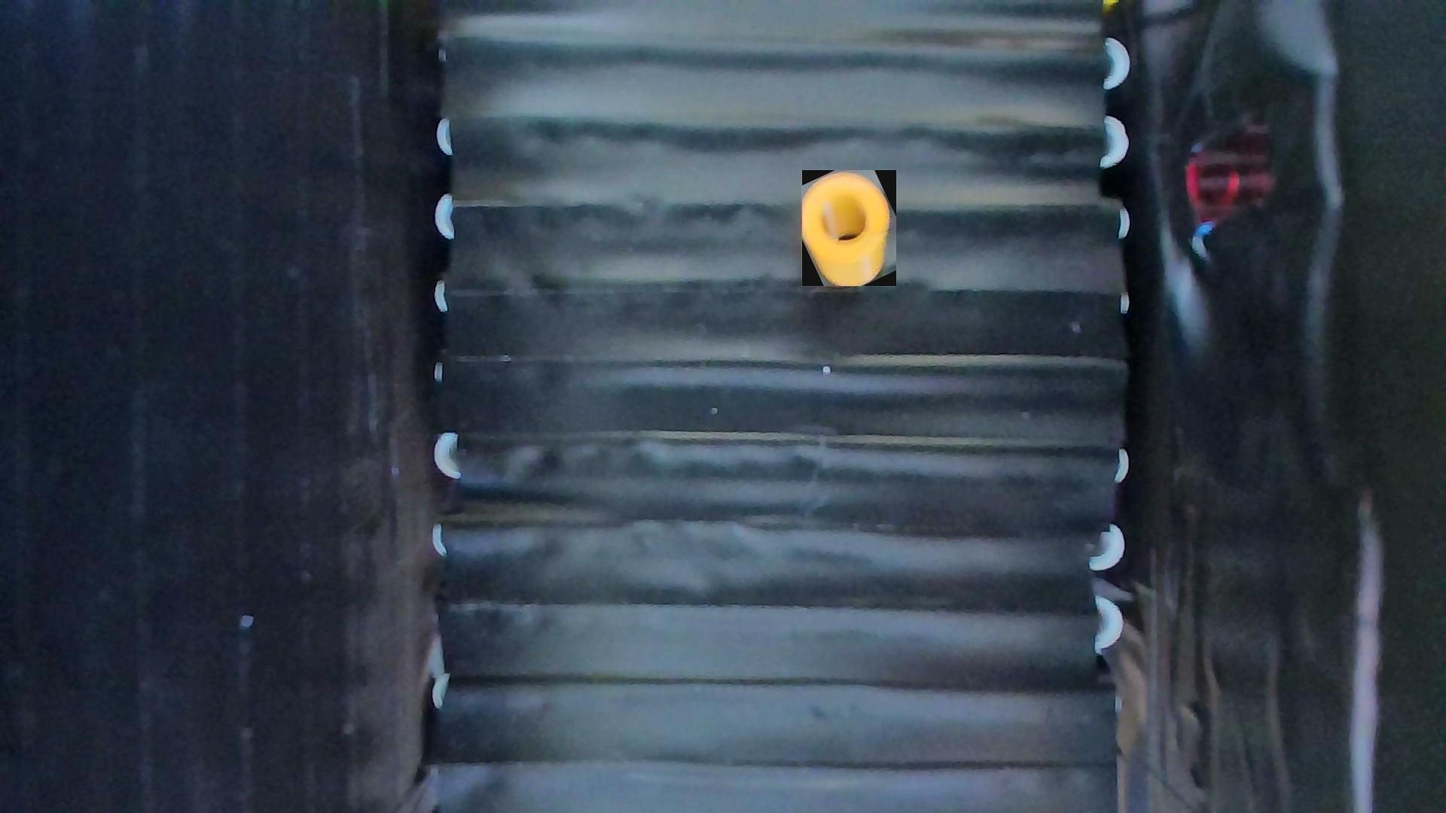spring: (801, 171, 896, 288)
